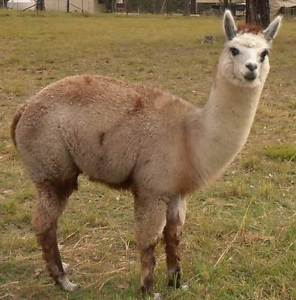alpaca: (10, 9, 283, 297)
